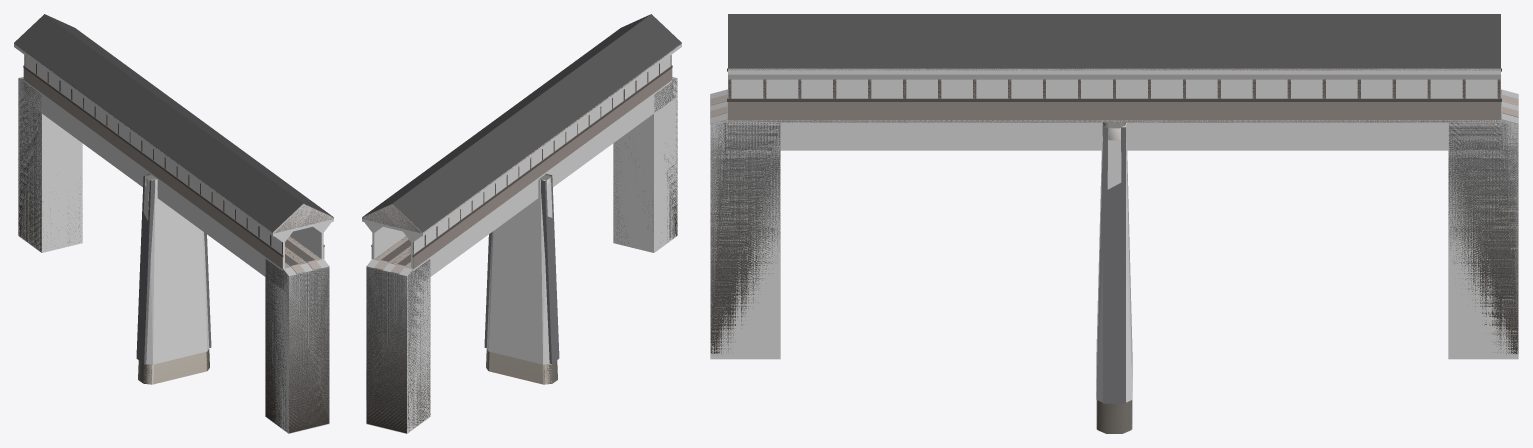
File: eca_bld_bridge_44m.dae
3 renders of one model, left to right at view 1: azimuth 30°, elevation 25°; view 2: azimuth 150°, elevation 25°; view 3: azimuth 270°, elevation 25°, orthographic. The views are drawn at different scales.
Parts seen in each view (by area): view 1: eca_bld_bridge_44m_a250, Colmesh-1, eca_bld_bridge_44m_a1500, eca_bld_bridge_44m_a20; view 2: Colmesh-1, eca_bld_bridge_44m_a250, eca_bld_bridge_44m_a1500, eca_bld_bridge_44m_a20; view 3: eca_bld_bridge_44m_a250, Colmesh-1, eca_bld_bridge_44m_a1500, eca_bld_bridge_44m_a20.
Boxes of the visible parts, x1=… form: eca_bld_bridge_44m_a250: x1=14, y1=14, x2=333, y2=433; Colmesh-1: x1=14, y1=44, x2=333, y2=433; eca_bld_bridge_44m_a1500: x1=14, y1=43, x2=333, y2=430; eca_bld_bridge_44m_a20: x1=23, y1=68, x2=333, y2=363; Colmesh-1: x1=362, y1=43, x2=681, y2=433; eca_bld_bridge_44m_a250: x1=362, y1=14, x2=681, y2=433; eca_bld_bridge_44m_a1500: x1=362, y1=43, x2=681, y2=431; eca_bld_bridge_44m_a20: x1=363, y1=68, x2=672, y2=399; eca_bld_bridge_44m_a250: x1=710, y1=14, x2=1518, y2=433; Colmesh-1: x1=710, y1=69, x2=1518, y2=402; eca_bld_bridge_44m_a1500: x1=710, y1=68, x2=1518, y2=350; eca_bld_bridge_44m_a20: x1=728, y1=102, x2=1500, y2=403.
Bounding box in the file's own units: 6.62 × 46 × 24.84.
